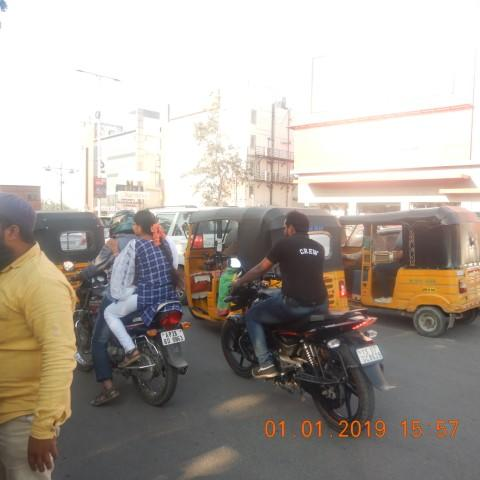plate: (159, 329, 186, 346)
